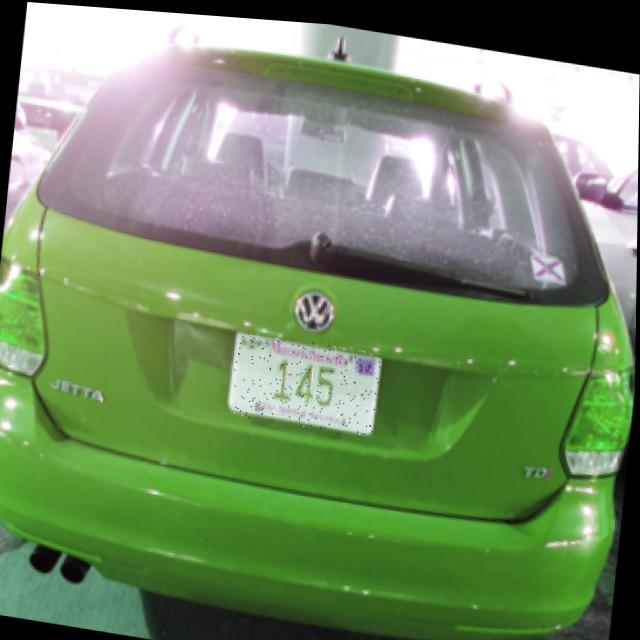license_plate: (230, 326, 382, 432)
